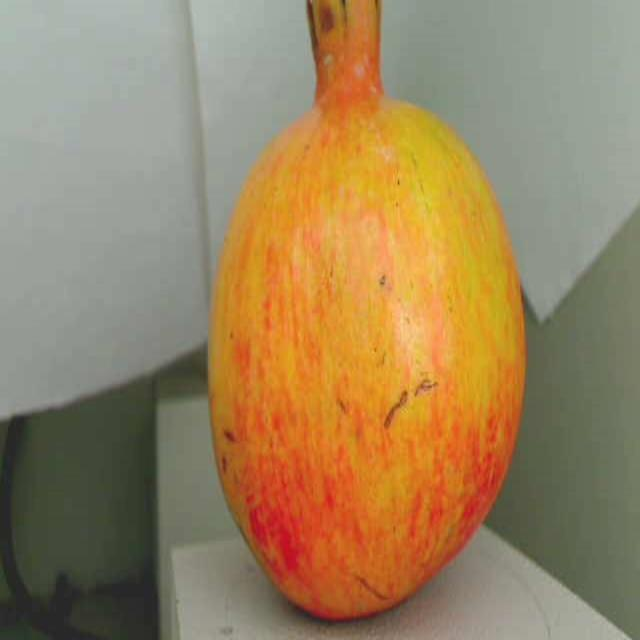pomegranate: (202, 0, 542, 640)
